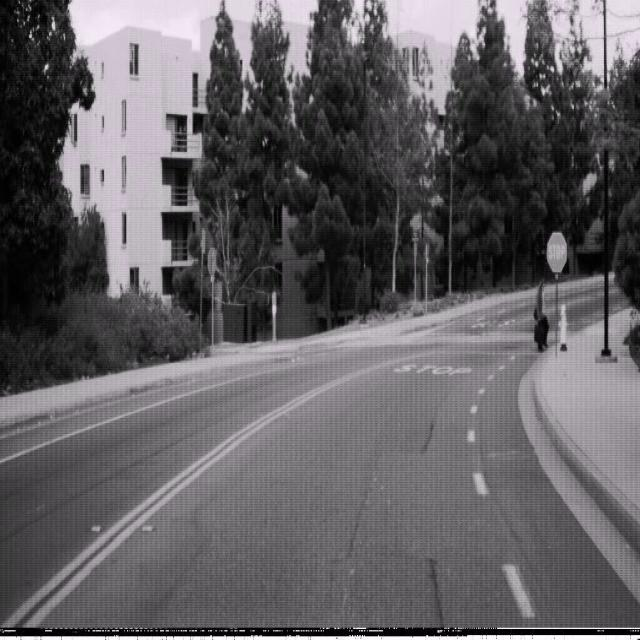stop_sign: (546, 230, 568, 274)
